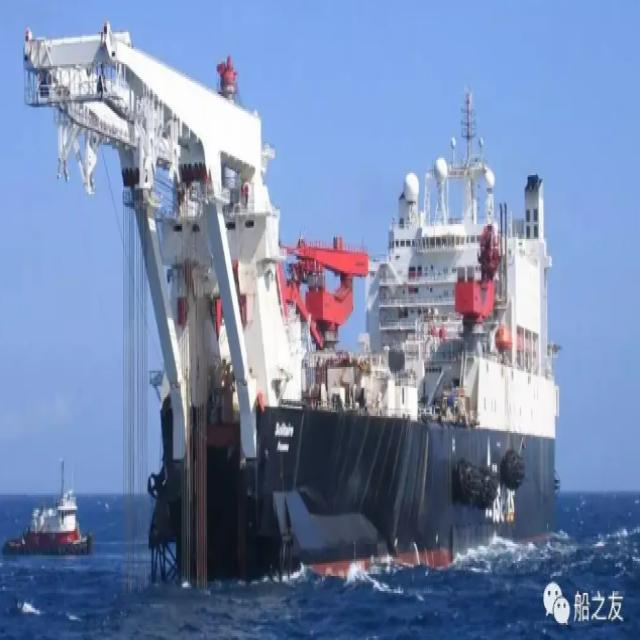cargoship: (20, 21, 562, 569), (0, 460, 91, 560)
